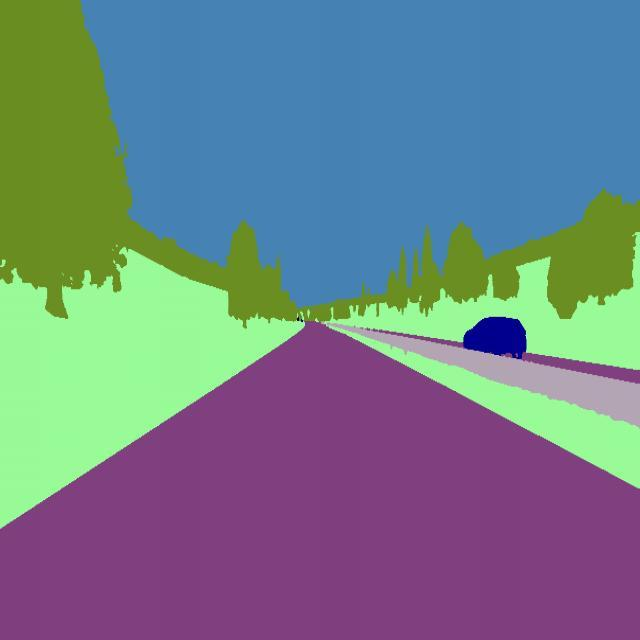safe: (462, 304, 530, 364)
